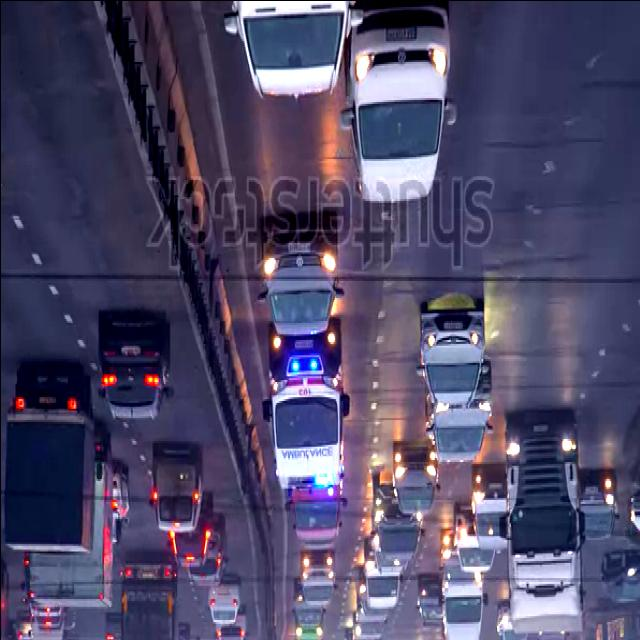ambulance: (260, 318, 349, 488)
